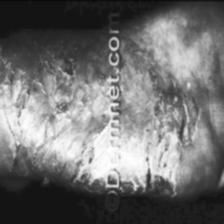Non-Cancerous Skin Condition: (130, 7, 224, 195), (9, 36, 103, 173)
